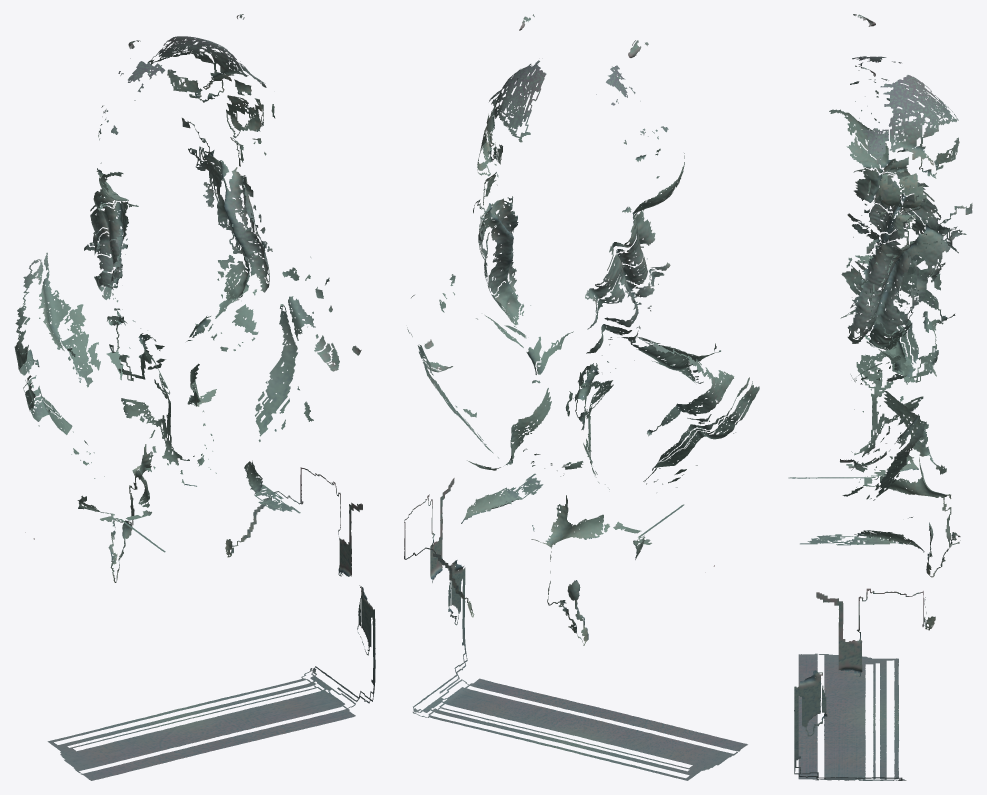
The model's file is cthulhu17_material_0.016_lev1.glb.
3 views of the same model, side by side, from view 1: azimuth 30°, elevation 25°; view 2: azimuth 150°, elevation 25°; view 3: azimuth 270°, elevation 25° (orthographic). The views are drawn at different scales.
Visible parts, largest first — view 1: cthulhu17_material_0.016_lev1; view 2: cthulhu17_material_0.016_lev1; view 3: cthulhu17_material_0.016_lev1.
Boxes of the visible parts, x1,y1,x2,y2 form: cthulhu17_material_0.016_lev1: [14, 14, 375, 780]; cthulhu17_material_0.016_lev1: [404, 14, 759, 780]; cthulhu17_material_0.016_lev1: [788, 14, 972, 780].
Size of the model in its own units: 2.7 by 5.52 by 1.36.
